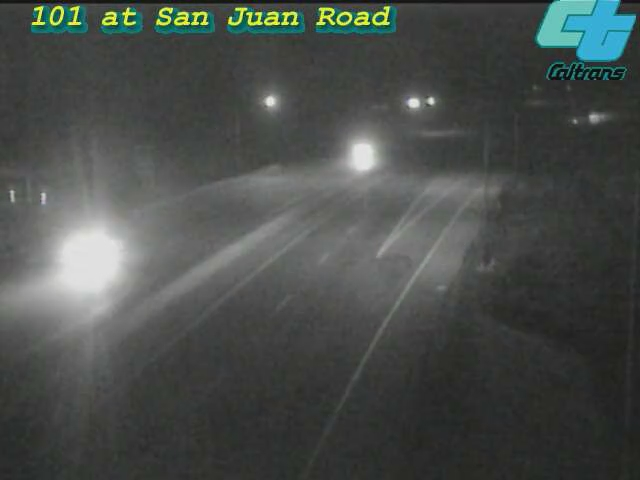vehicle: (39, 222, 119, 302), (312, 120, 392, 200), (574, 91, 624, 141)
